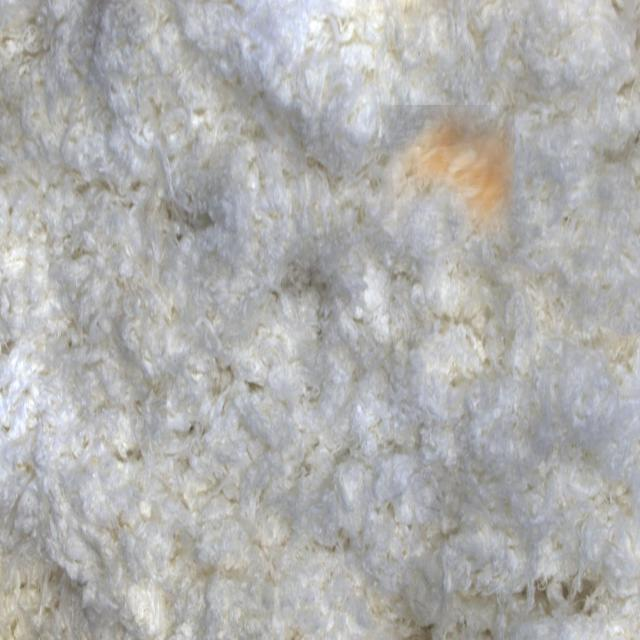dust: (381, 105, 515, 241)
